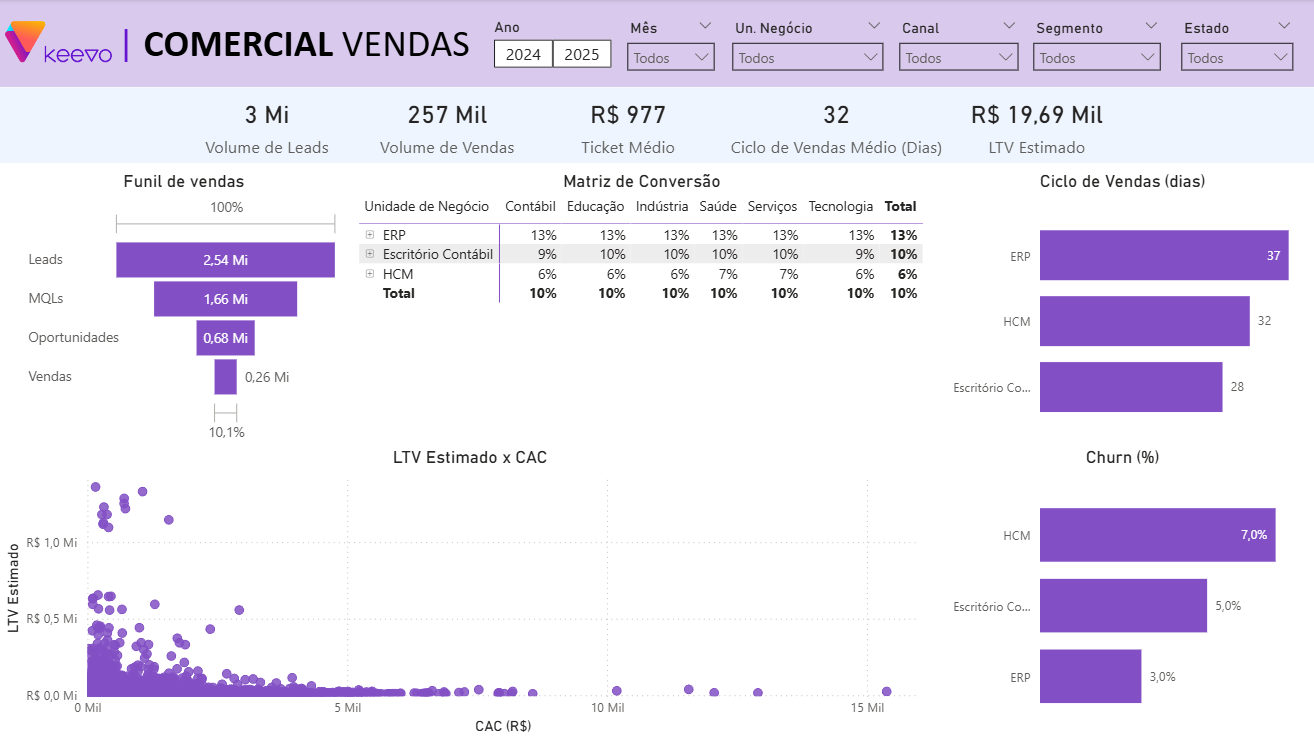

What the dashboard file says about the page in this screenshot:
{"tool":"powerbi","page":{"name":"Comercial","canvas":[1280,720],"ordinal":1},"visuals":[{"type":"scatterChart","title":"LTV Estimado x CAC","fields":{"X":["Sheet1.CAC (R$)"],"Y":["Sheet1.LTV Estimado"]},"box":[0,435.6,916.7,284.4],"z":0},{"type":"shape","box":[0,85.6,1280,74.4],"z":1000},{"type":"shape","box":[0,0,1280,85.6],"z":2000},{"type":"card","fields":{"Values":["Sum(Sheet1.Leads)"]},"box":[214.6,85.6,175,73],"z":3000},{"type":"card","fields":{"Values":["Sheet1.Vendas_Volume"]},"box":[390.1,85.6,175.6,73.3],"z":4000},{"type":"card","fields":{"Values":["Sheet1.Ciclo de Vendas Médio"]},"box":[741.2,85.6,175.6,73.3],"z":5000},{"type":"card","fields":{"Values":["Sheet1.Ticket Médio"]},"box":[565.7,85.6,175.6,73.3],"z":6000},{"type":"card","fields":{"Values":["Sheet1.LTV Estimado"]},"box":[916.8,85.6,175.6,73.3],"z":7000},{"type":"funnel","title":"Funil de vendas","fields":{"Y":["Sum(Sheet1.Leads)","Sum(Sheet1.MQLs)","Sum(Sheet1.Oportunidades)","Sum(Sheet1.Vendas)"]},"box":[23.3,167.8,313.3,267.8],"z":8000},{"type":"pivotTable","title":"Matriz de Conversão","fields":{"Rows":["Sheet1.Unidade de Negócio","Sheet1.Estado"],"Values":["Sheet1.LCR"],"Columns":["Sheet1.Segmento"]},"box":[345.6,167.8,560,267.8],"z":9000},{"type":"barChart","title":"Ciclo de Vendas (dias)","fields":{"Category":["Sheet1.Unidade de Negócio"],"Y":["Sheet1.Ciclo de Vendas Médio"]},"box":[905.6,167.8,374.4,267.8],"z":10000},{"type":"textbox","title":"SUMÁRIO EXECUTIVO","box":[110,14.6,454,61],"z":11000},{"type":"advancedSlicerVisual","title":"Ano","fields":{"Values":["Sheet1.Ano"]},"box":[476.6,13.6,124.5,58.4],"z":12000},{"type":"slicer","fields":{"Values":["Sheet1.Mês"]},"box":[601.1,14.4,105,58.4],"z":13000},{"type":"slicer","fields":{"Values":["Sheet1.Unidade de Negócio"]},"box":[703.2,14.4,167.3,58.4],"z":14000},{"type":"slicer","fields":{"Values":["Sheet1.Canal"]},"box":[865.7,14.4,136.2,58.4],"z":15000},{"type":"slicer","fields":{"Values":["Sheet1.Segmento"]},"box":[996,14.4,144,58.4],"z":16000},{"type":"image","box":[5.6,18.9,104.4,46.7],"z":17000},{"type":"slicer","fields":{"Values":["Sheet1.Estado"]},"box":[1139.9,14.4,129.4,58.4],"z":18000},{"type":"barChart","title":"Churn (%)","fields":{"Category":["Sheet1.Unidade de Negócio"],"Y":["Sheet1.Churn %"]},"box":[905.6,435.6,374.4,284.4],"z":19000}]}

Visuals, with their boxes in screenshot pixels (x1, y1, x2, y2), scaled from the page's 1280x720 canvas onto the 1314x738 screenshot:
"LTV Estimado x CAC" scatterChart: l=0, t=446, r=941, b=737
shape: l=0, t=88, r=1313, b=164
shape: l=0, t=0, r=1313, b=88
card - Sum(Sheet1.Leads): l=220, t=88, r=400, b=163
card - Sheet1.Vendas_Volume: l=400, t=88, r=581, b=163
card - Sheet1.Ciclo de Vendas Médio: l=761, t=88, r=941, b=163
card - Sheet1.Ticket Médio: l=581, t=88, r=761, b=163
card - Sheet1.LTV Estimado: l=941, t=88, r=1121, b=163
"Funil de vendas" funnel: l=24, t=172, r=346, b=446
"Matriz de Conversão" pivotTable: l=355, t=172, r=930, b=446
"Ciclo de Vendas (dias)" barChart: l=930, t=172, r=1313, b=446
"SUMÁRIO EXECUTIVO" textbox: l=113, t=15, r=579, b=77
"Ano" advancedSlicerVisual: l=489, t=14, r=617, b=74
slicer - Sheet1.Mês: l=617, t=15, r=725, b=75
slicer - Sheet1.Unidade de Negócio: l=722, t=15, r=894, b=75
slicer - Sheet1.Canal: l=889, t=15, r=1029, b=75
slicer - Sheet1.Segmento: l=1022, t=15, r=1170, b=75
image: l=6, t=19, r=113, b=67
slicer - Sheet1.Estado: l=1170, t=15, r=1303, b=75
"Churn (%)" barChart: l=930, t=446, r=1313, b=737
